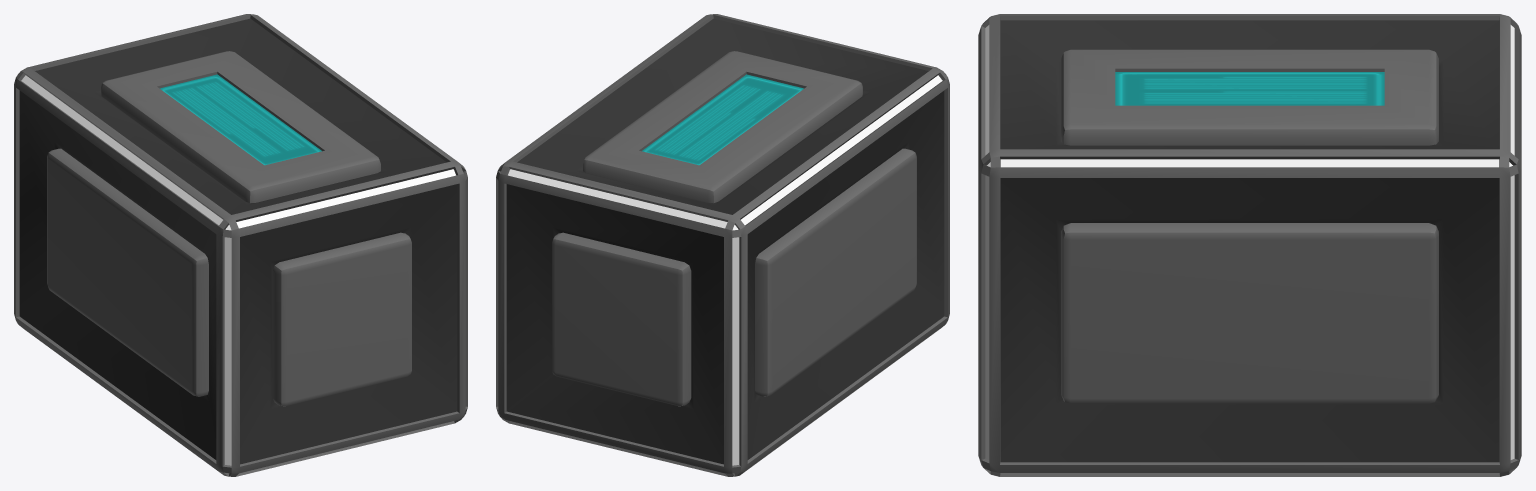
The model's file is Rounded_Crate_2x3.fbx.
The picture shows the model from 3 angles, left to right: view 1: azimuth 30°, elevation 25°; view 2: azimuth 150°, elevation 25°; view 3: azimuth 270°, elevation 25°; orthographic projection. The views are drawn at different scales.
Parts seen in each view (by area): view 1: Rounded_Crate_2x3; view 2: Rounded_Crate_2x3; view 3: Rounded_Crate_2x3.
Part boxes in pixels (x1,y1,x2,y2): Rounded_Crate_2x3: (14, 14, 467, 476); Rounded_Crate_2x3: (496, 14, 949, 476); Rounded_Crate_2x3: (978, 14, 1521, 476).
Bounding box in the file's own units: 195 × 195 × 295.
